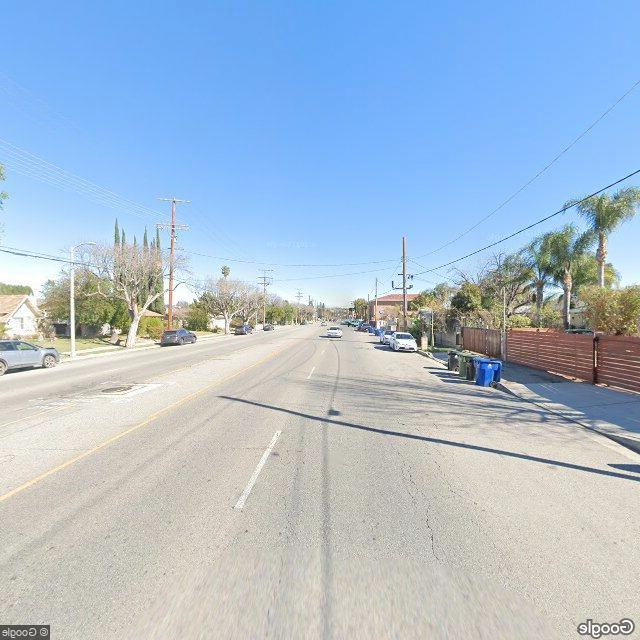crack: (387, 416, 503, 561)
